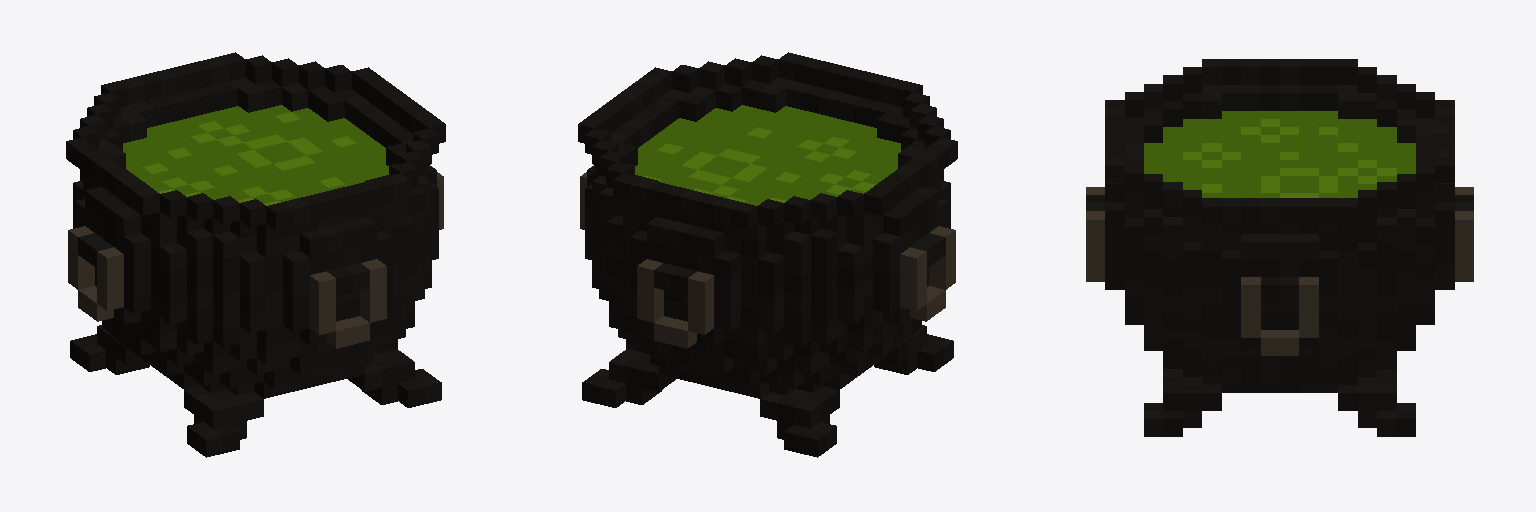
3 renders of one model, left to right at view 1: azimuth 30°, elevation 25°; view 2: azimuth 150°, elevation 25°; view 3: azimuth 270°, elevation 25°, orthographic.
Parts seen in each view (by area): view 1: object 1; view 2: object 1; view 3: object 1.
Part boxes in pixels (x1,y1,x2,y2): object 1: (66, 52, 445, 457); object 1: (578, 52, 957, 457); object 1: (1086, 59, 1473, 436).
Size of the model in its own units: 2 by 1.4 by 2.
Materials: 1 (1 with a texture image).